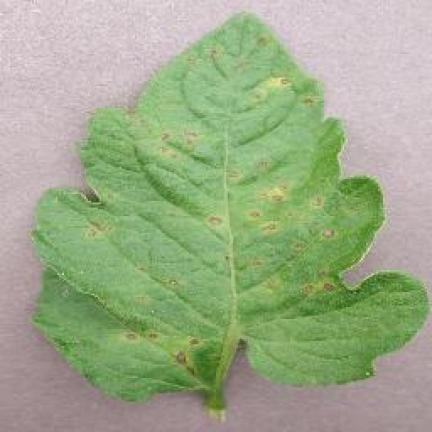disease: (34, 15, 427, 413)
leaf: (145, 385, 154, 392)
